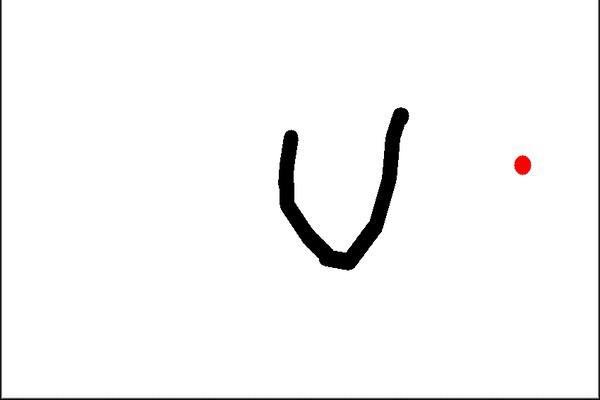U: (259, 104, 423, 281)
